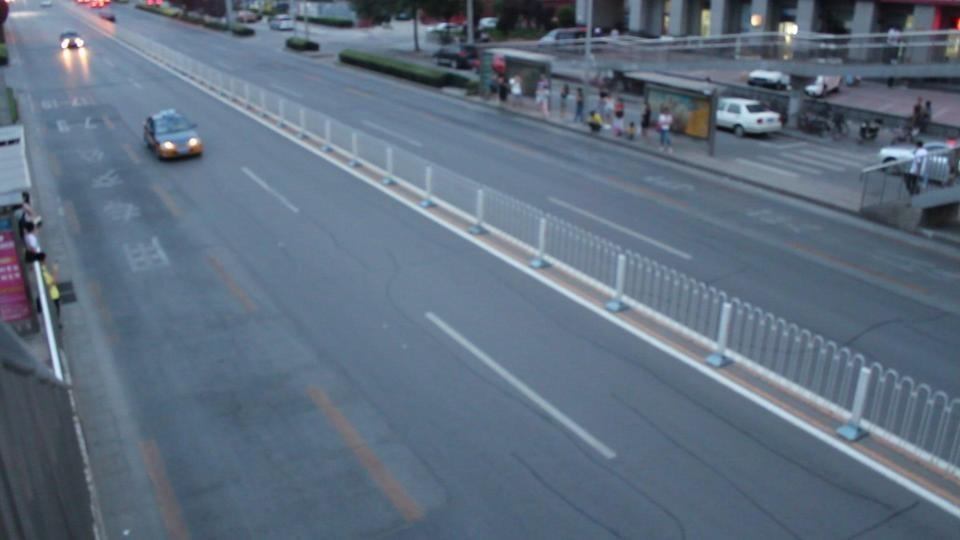car: (142, 108, 204, 161), (713, 99, 785, 139), (536, 27, 611, 50), (432, 45, 480, 71), (877, 143, 921, 168), (746, 69, 791, 91), (802, 74, 842, 97), (58, 28, 85, 50), (269, 16, 296, 31)
